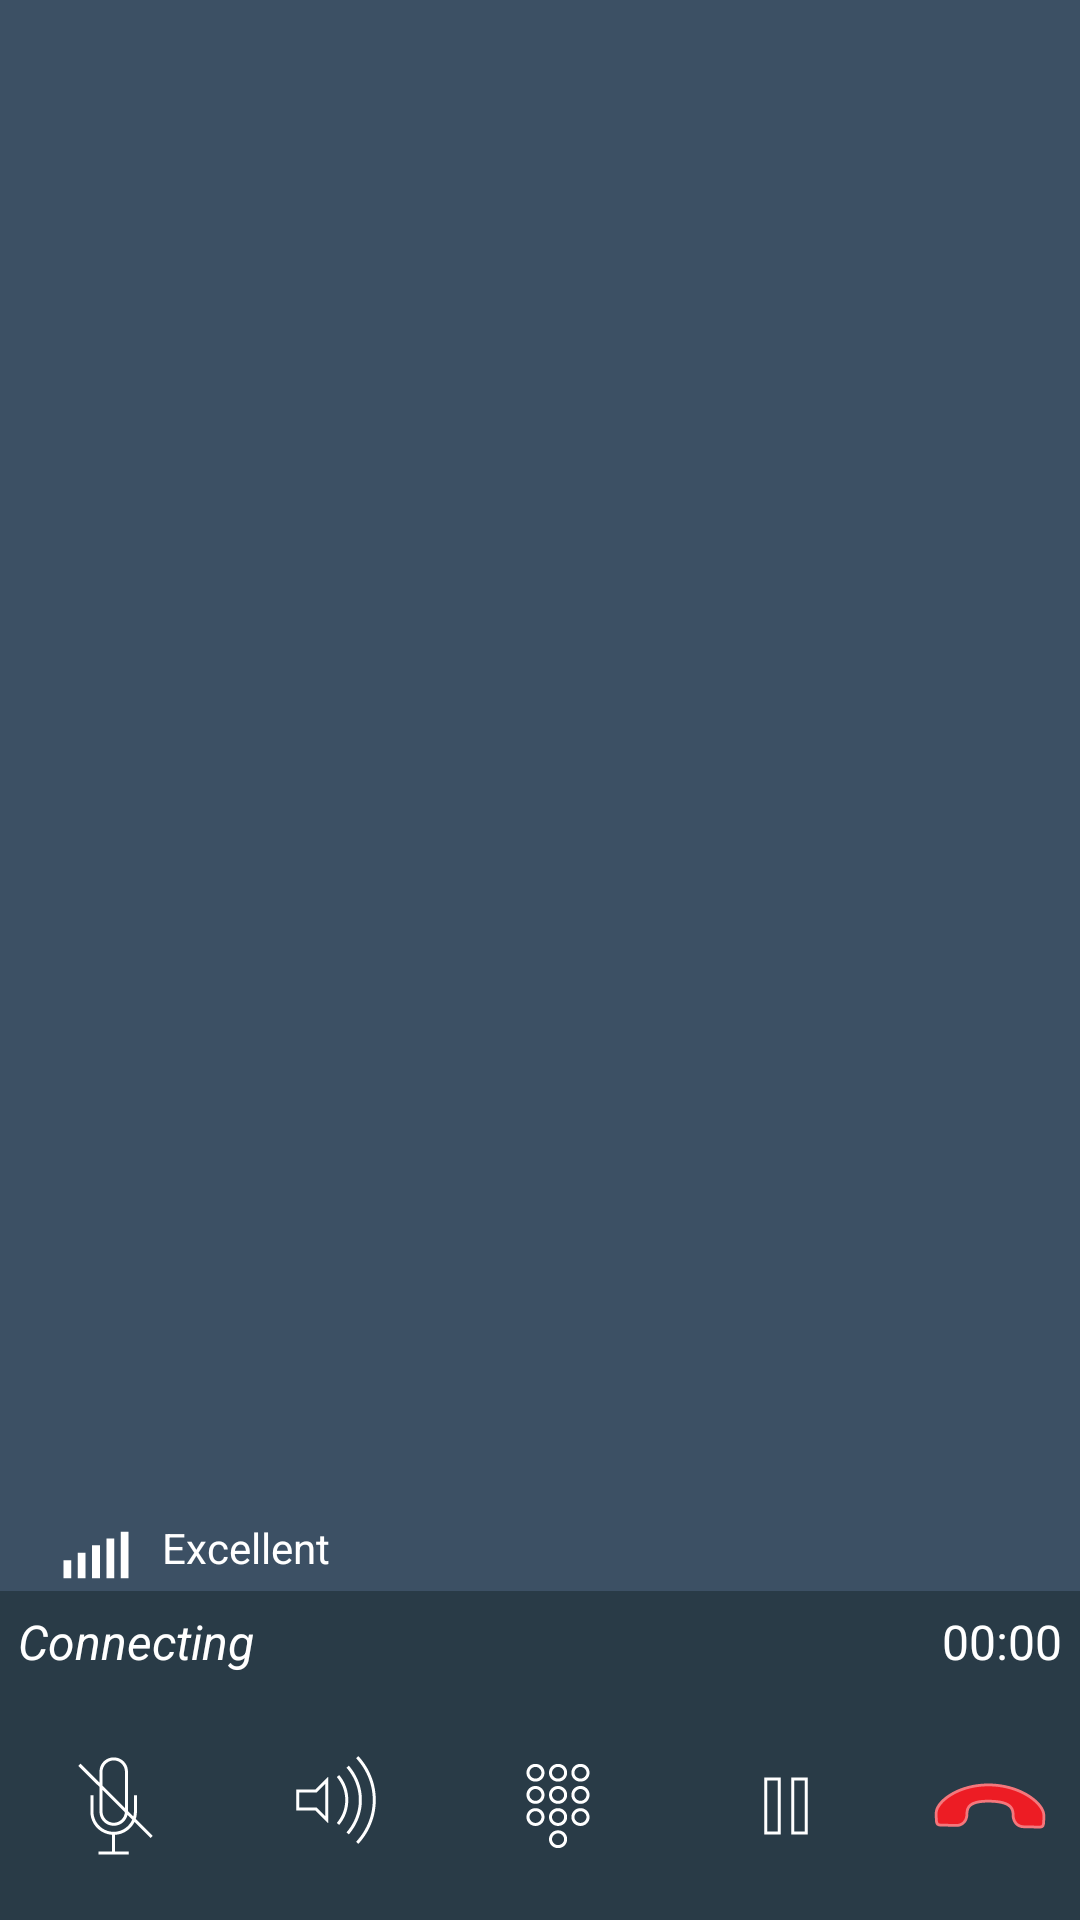

Icon bounding boxes for this 1080 x 1920 phone screenshot, format (x1, y1, x2, y2):
activecall advctrl hold: (764, 1777, 808, 1835)
activecall hangup: (934, 1783, 1046, 1829)
activecall mute: (78, 1757, 153, 1855)
activecall speaker off: (296, 1756, 376, 1844)
networkquality: (63, 1531, 129, 1579)
